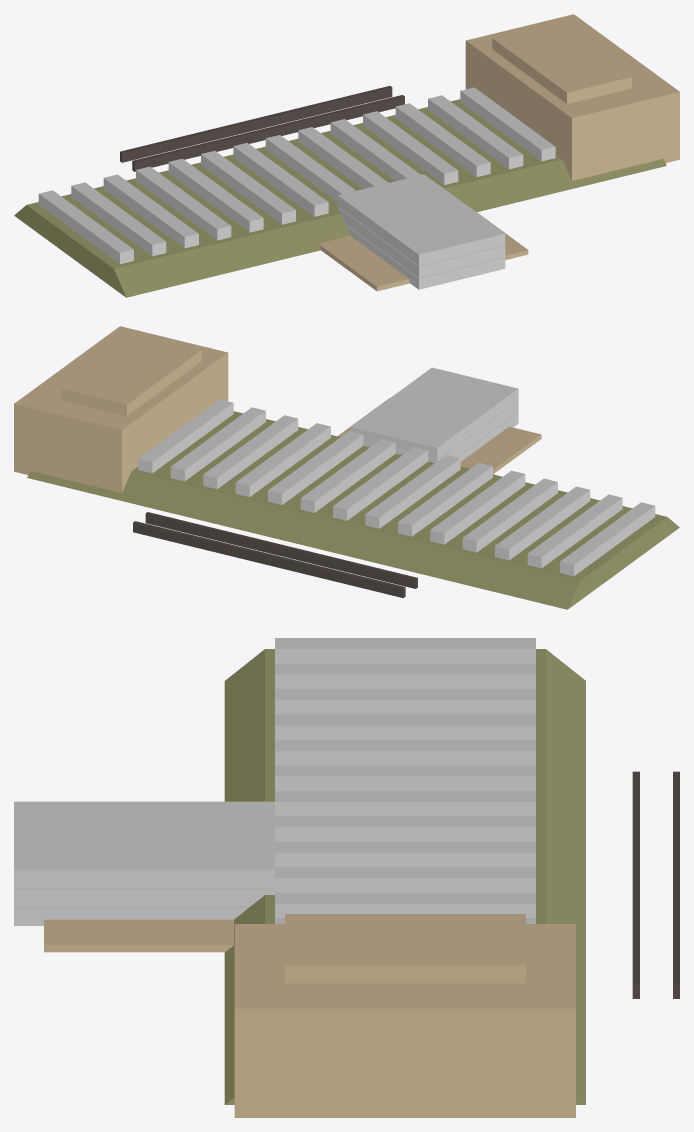
Rendered from SM_Via_Topera_v3_Obra_LOD0.fbx.
3 renders of one model, top to bottom at view 1: azimuth 30°, elevation 25°; view 2: azimuth 150°, elevation 25°; view 3: azimuth 270°, elevation 25°, orthographic. The views are drawn at different scales.
Parts seen in each view (by area): view 1: SM_via_trazado_v38_LOD0; view 2: SM_via_trazado_v38_LOD0; view 3: SM_via_trazado_v38_LOD0.
Boxes of the visible parts, x1,y1,x2,y2 form: SM_via_trazado_v38_LOD0: (14, 14, 679, 297); SM_via_trazado_v38_LOD0: (14, 326, 679, 609); SM_via_trazado_v38_LOD0: (14, 638, 679, 1117).
Bounding box in the file's own units: 10.3 × 1.4 × 6.64.
